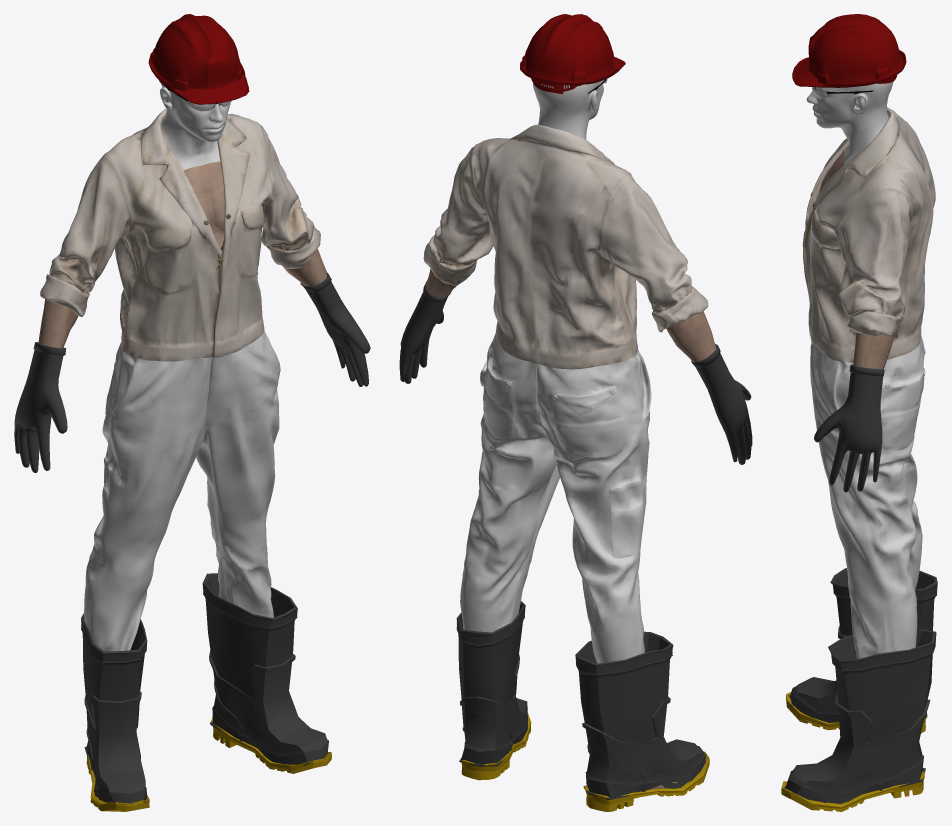
File: jueyuanxue.fbx
3 renders of one model, left to right at view 1: azimuth 30°, elevation 25°; view 2: azimuth 150°, elevation 25°; view 3: azimuth 270°, elevation 25°, orthographic.
Visible parts, largest first — view 1: polySurface13, polySurface16, polySurface25, polySurface5, E003PLVE1, pCube5, polySurface23, pCube6, polySurface21, polySurface24; view 2: polySurface13, polySurface16, polySurface5, polySurface25, E003PLVE1, pCube5, polySurface23, pCube6, polySurface21; view 3: polySurface13, polySurface16, polySurface25, E003PLVE1, pCube6, polySurface5, polySurface23, polySurface21.
Part boxes in pixels (bbox=[...]): polySurface13: bbox=[40, 108, 320, 361]; polySurface16: bbox=[84, 329, 280, 651]; polySurface25: bbox=[202, 573, 331, 773]; polySurface5: bbox=[81, 613, 149, 811]; E003PLVE1: bbox=[148, 14, 249, 104]; pCube5: bbox=[14, 342, 67, 472]; polySurface23: bbox=[159, 83, 230, 170]; pCube6: bbox=[300, 272, 370, 386]; polySurface21: bbox=[38, 249, 327, 348]; polySurface24: bbox=[183, 161, 224, 248]; polySurface13: bbox=[423, 124, 708, 369]; polySurface16: bbox=[460, 334, 651, 663]; polySurface5: bbox=[575, 631, 709, 811]; polySurface25: bbox=[456, 601, 531, 780]; E003PLVE1: bbox=[520, 14, 625, 94]; pCube5: bbox=[691, 344, 752, 464]; polySurface23: bbox=[533, 80, 603, 139]; pCube6: bbox=[399, 279, 452, 383]; polySurface21: bbox=[427, 268, 716, 362]; polySurface13: bbox=[802, 107, 935, 362]; polySurface16: bbox=[810, 335, 925, 658]; polySurface25: bbox=[781, 629, 936, 811]; E003PLVE1: bbox=[792, 14, 906, 87]; pCube6: bbox=[814, 364, 884, 492]; polySurface5: bbox=[786, 568, 937, 733]; polySurface23: bbox=[806, 82, 893, 164]; polySurface21: bbox=[853, 332, 894, 369].
Size of the model in its own units: 139 by 295 by 56.2.
